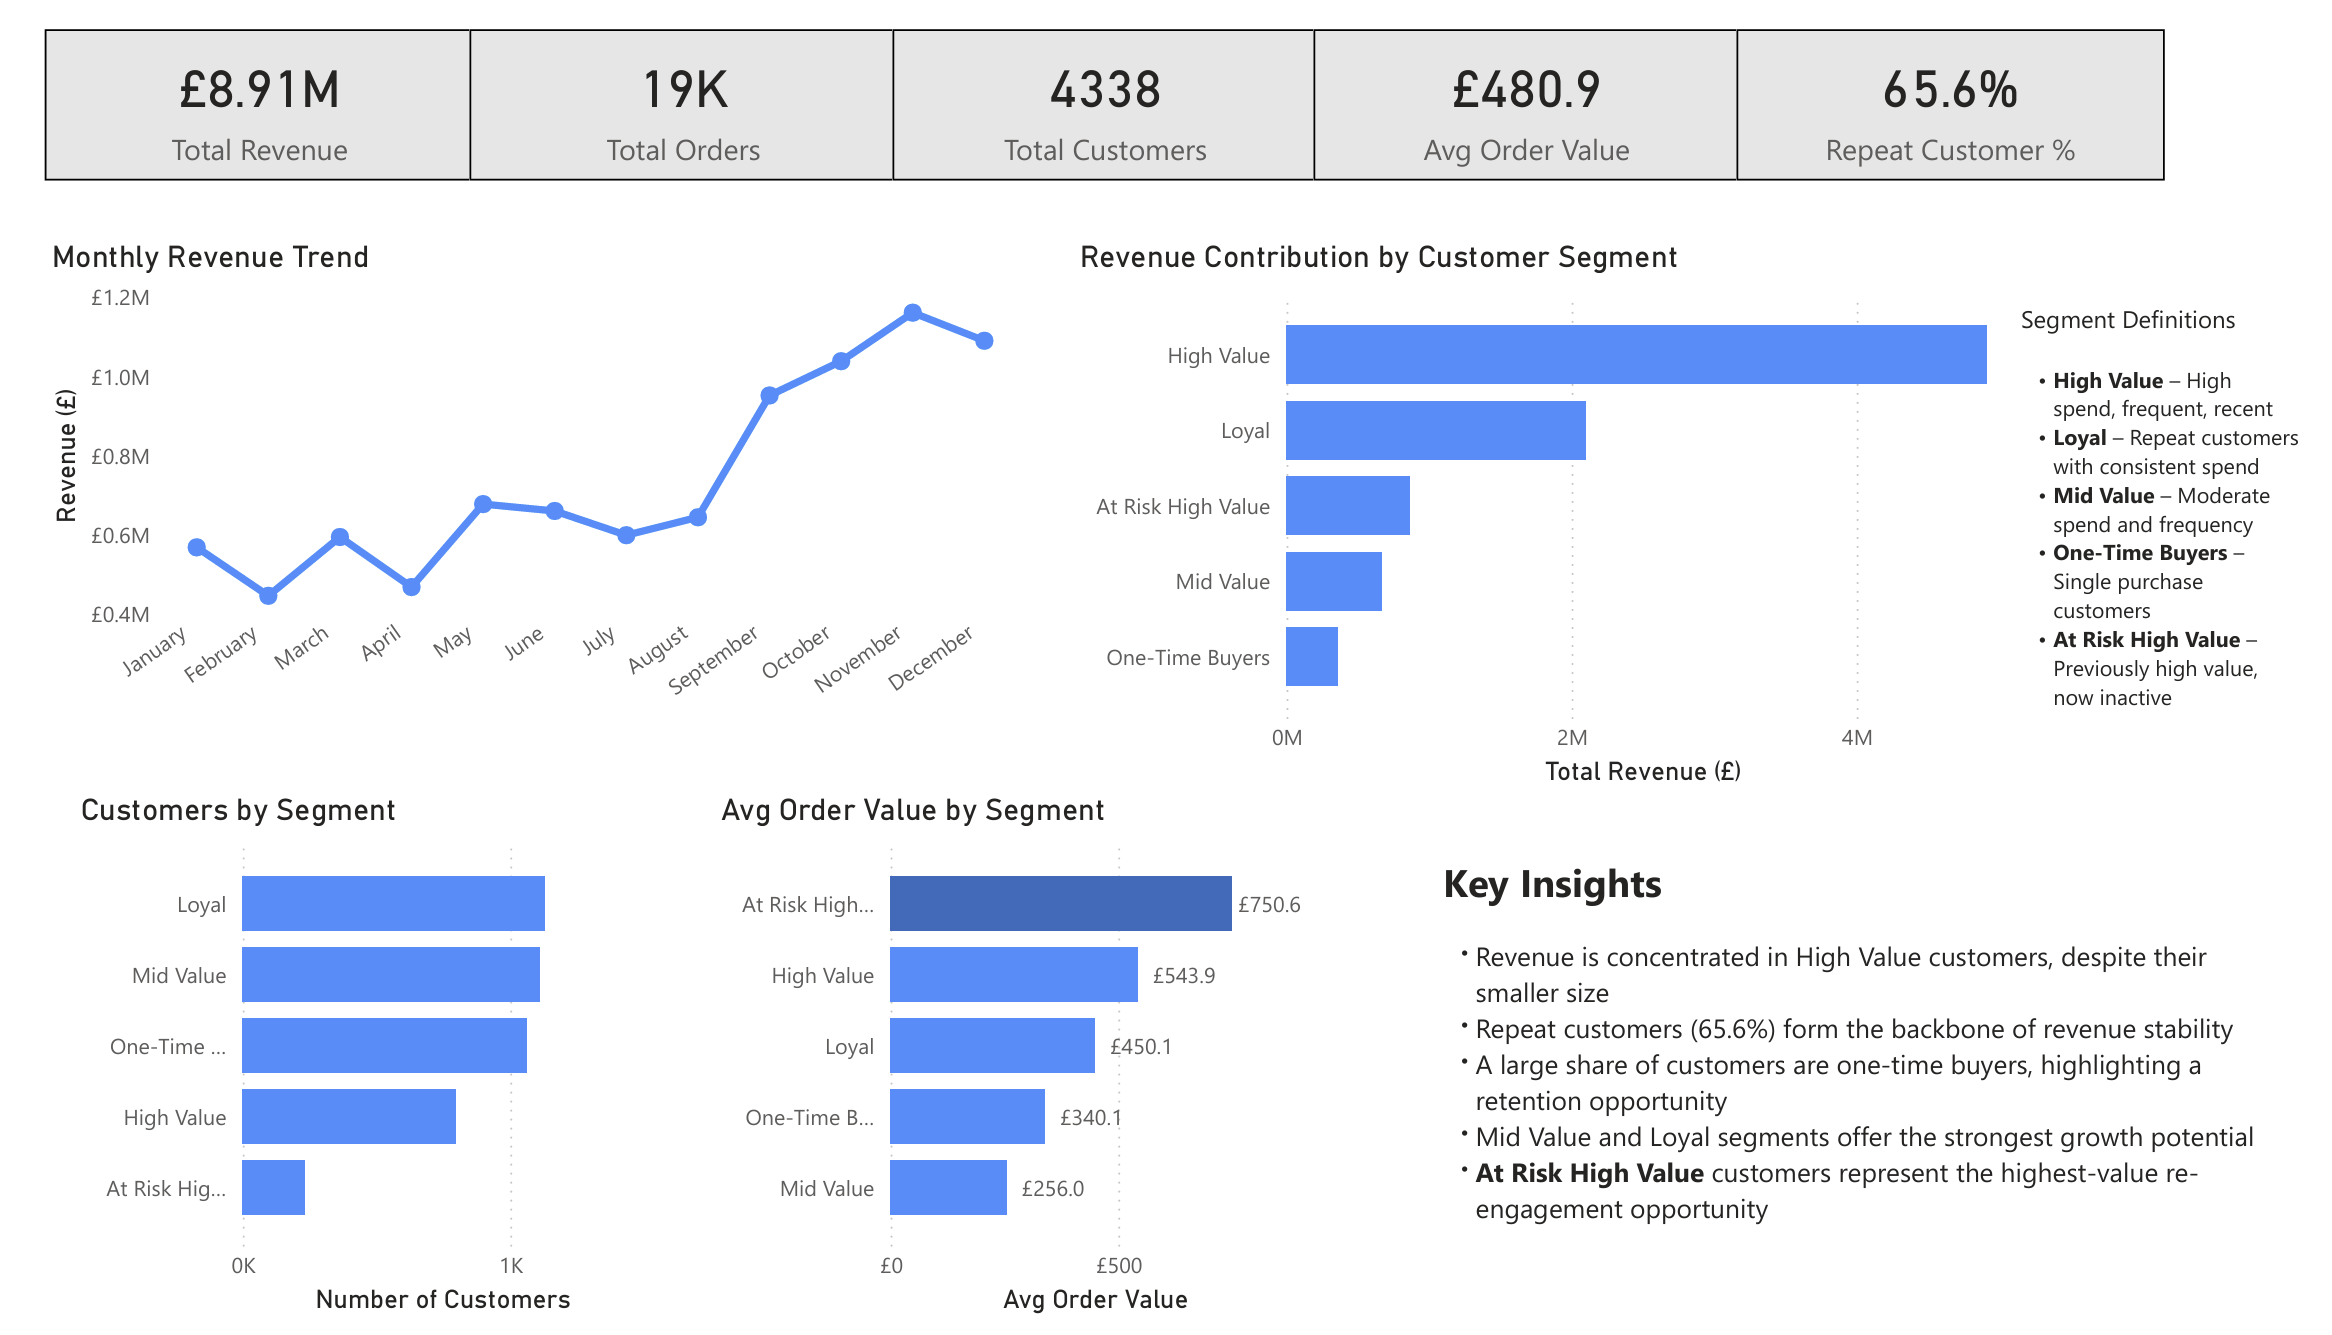

The dashboard page shown, as its layout file describes it:
{"tool":"powerbi","page":{"name":"Executive Summary","canvas":[1280,720],"ordinal":0},"visuals":[{"type":"card","fields":{"Values":["transactions_clean.Total Revenue"]},"box":[21.7,0,239.7,84.1],"z":0},{"type":"card","fields":{"Values":["transactions_clean.Total Orders"]},"box":[258.4,0,237.3,84.2],"z":1000},{"type":"card","fields":{"Values":["transactions_clean.Total Customers"]},"box":[492.8,0,237.3,84.2],"z":2000},{"type":"card","fields":{"Values":["transactions_clean.Avg Order Value"]},"box":[727.2,0,237.3,84.2],"z":3000},{"type":"card","fields":{"Values":["customer_summary.Repeat Customer %"]},"box":[961.5,0,238.9,84.2],"z":4000},{"type":"lineChart","title":"Monthly Revenue Trend","fields":{"Category":["transactions_clean.Month.Variation.Date Hierarchy.Month"],"Y":["transactions_clean.Total Revenue"]},"box":[21.4,116.4,543.5,277.1],"z":5000},{"type":"barChart","title":"Customers by Segment","fields":{"Category":["customer_summary.segment"],"Y":["CountNonNull(customer_summary.customer_id)"]},"box":[36.7,422.6,330.7,295.5],"z":6000},{"type":"barChart","title":"Revenue Contribution by Customer Segment","fields":{"Category":["customer_summary.segment"],"Y":["Sum(customer_summary.total_revenue)"]},"box":[591.6,116,530.4,308.5],"z":7000},{"type":"textbox","box":[794.3,453.9,474.3,232],"z":8000},{"type":"textbox","box":[1114.6,147,165.4,295.5],"z":9000},{"type":"barChart","title":"Avg Order Value by Segment","fields":{"Category":["customer_summary.segment"],"Y":["transactions_clean.Avg Order Value"]},"box":[393.5,422.6,344.5,295.5],"z":10000}]}

Visuals, with their boxes in screenshot pixels (x1, y1, x2, y2), scaled from the page's 1280x720 canvas onto the 2332x1335 screenshot:
card - transactions_clean.Total Revenue: x1=40 y1=0 x2=476 y2=156
card - transactions_clean.Total Orders: x1=471 y1=0 x2=903 y2=156
card - transactions_clean.Total Customers: x1=898 y1=0 x2=1330 y2=156
card - transactions_clean.Avg Order Value: x1=1325 y1=0 x2=1757 y2=156
card - customer_summary.Repeat Customer %: x1=1752 y1=0 x2=2187 y2=156
"Monthly Revenue Trend" lineChart: x1=39 y1=216 x2=1029 y2=730
"Customers by Segment" barChart: x1=67 y1=784 x2=669 y2=1331
"Revenue Contribution by Customer Segment" barChart: x1=1078 y1=215 x2=2044 y2=787
textbox: x1=1447 y1=842 x2=2311 y2=1272
textbox: x1=2031 y1=273 x2=2331 y2=820
"Avg Order Value by Segment" barChart: x1=717 y1=784 x2=1345 y2=1331
